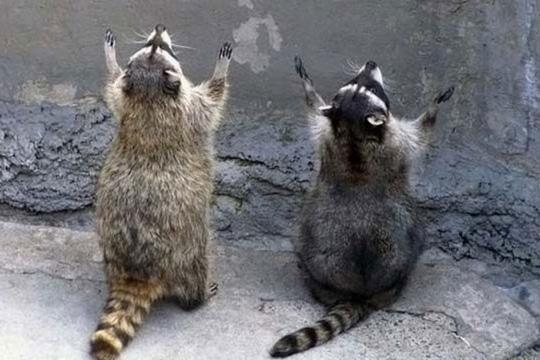raccoon: (268, 54, 454, 360), (90, 22, 232, 360)
